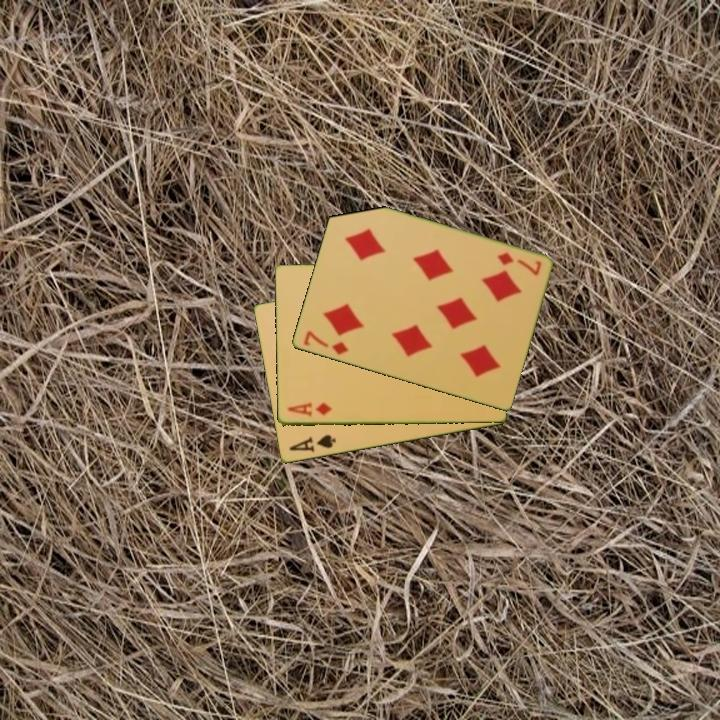7d: (300, 327, 351, 358), (493, 249, 544, 279)
Ad: (284, 399, 334, 420)
As: (286, 431, 338, 455)
